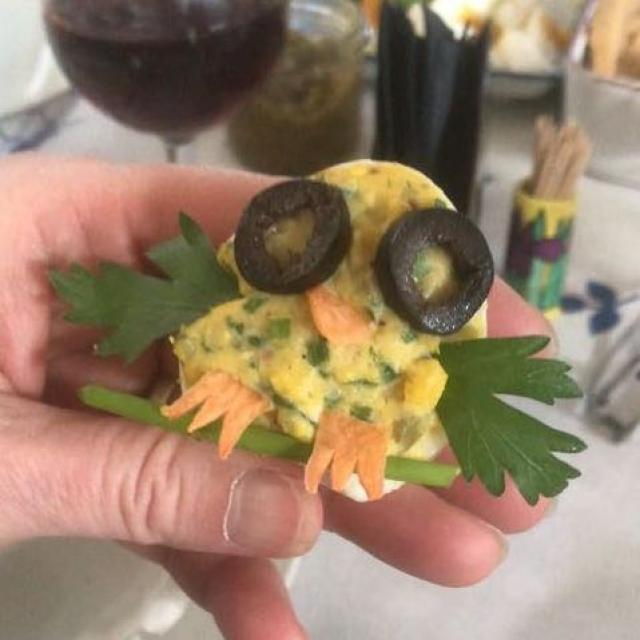black-olives: (226, 178, 513, 349)
carrot-raw: (145, 283, 401, 512)
egg-scrambled-prepared: (156, 136, 518, 504)
